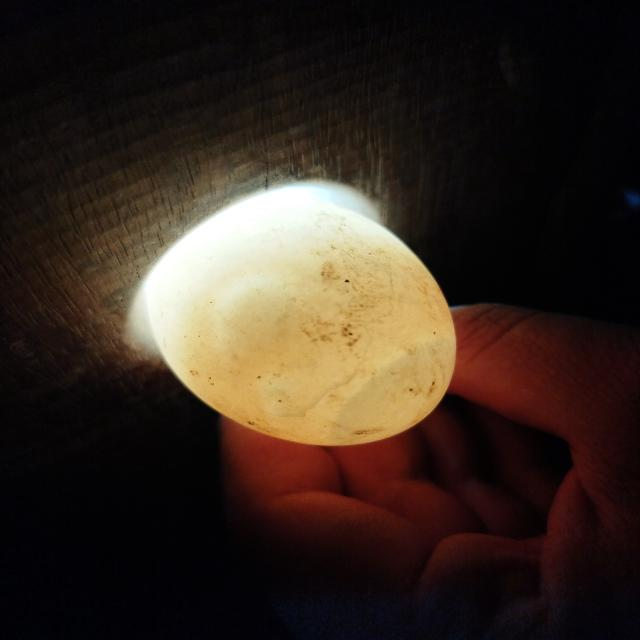Camara de Ar: (329, 341, 457, 446)
